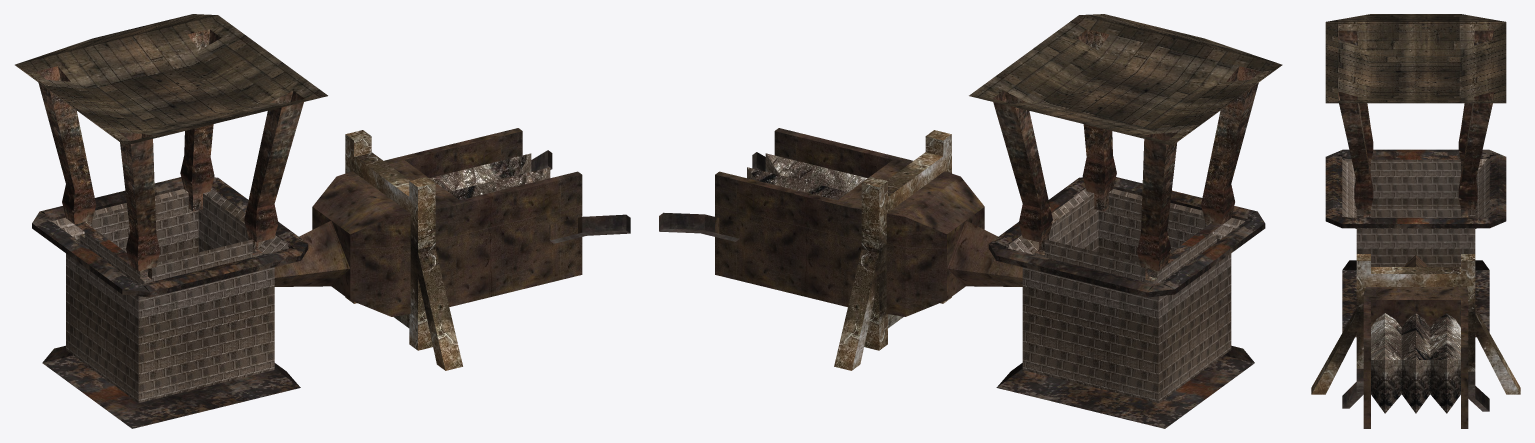
File: objects_smallforge.glb
3 views of the same model, side by side, from view 1: azimuth 30°, elevation 25°; view 2: azimuth 150°, elevation 25°; view 3: azimuth 270°, elevation 25° (orthographic). The views are drawn at different scales.
Visible parts, largest first — view 1: smallforge; view 2: smallforge; view 3: smallforge.
Boxes of the visible parts, <box> form: smallforge: <box>15,14,630,428</box>; smallforge: <box>659,14,1282,428</box>; smallforge: <box>1311,14,1520,428</box>.
Size of the model in its own units: 6.5 by 4 by 2.75.
Materials: 10 (10 with a texture image).
